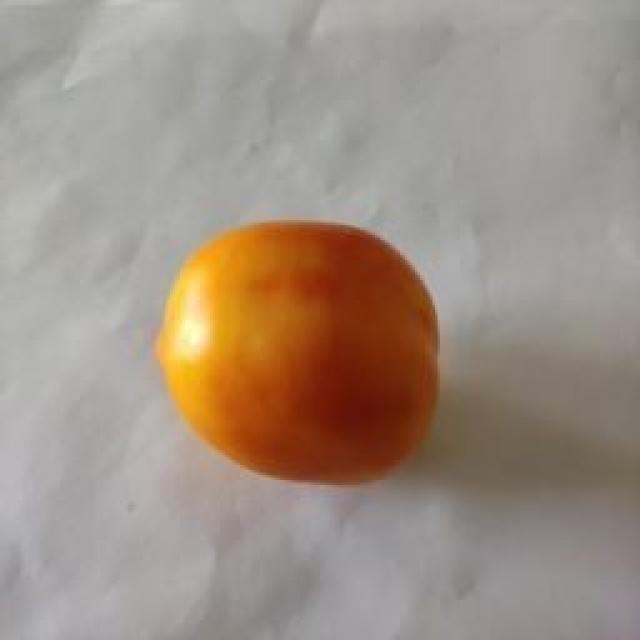unripe: (210, 107, 510, 455)
